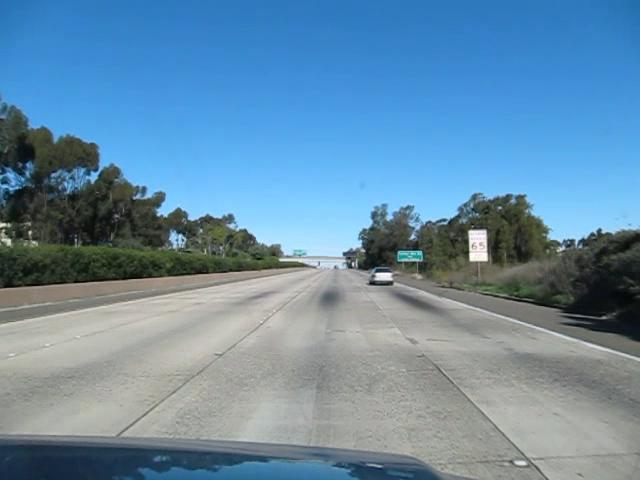speedLimit65: (467, 228, 488, 253)
